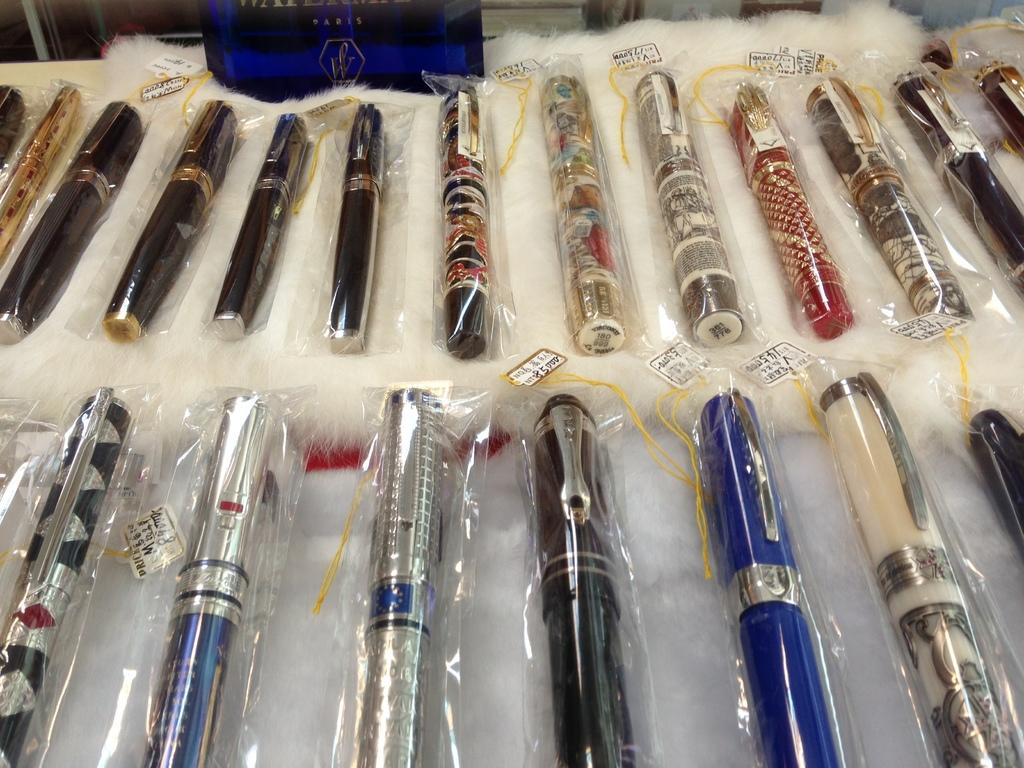pen: (831, 366, 1023, 767), (156, 382, 283, 764), (0, 410, 134, 767), (698, 386, 819, 767), (801, 65, 973, 312), (349, 383, 445, 767), (0, 94, 149, 340), (112, 84, 242, 352), (883, 61, 1023, 287), (545, 386, 630, 758), (630, 74, 747, 335), (728, 73, 847, 315), (204, 108, 304, 340), (547, 71, 627, 355), (324, 97, 386, 353), (439, 84, 479, 346)
